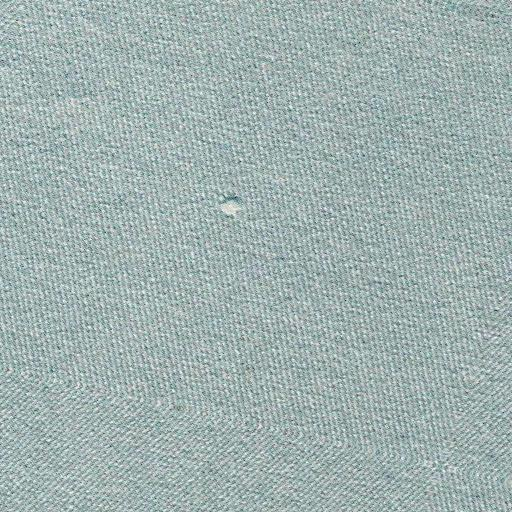knot: (200, 187, 261, 228)
